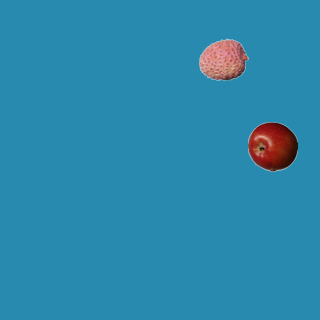Apple Braeburn: (247, 121, 297, 171)
Lychee: (198, 34, 248, 84)
